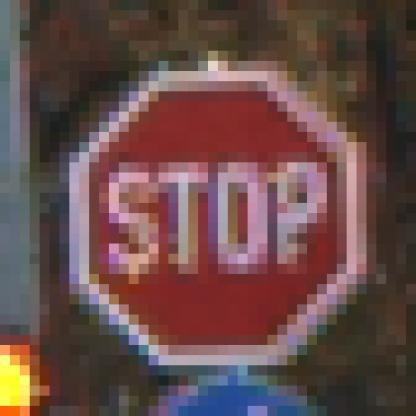Stop: (72, 78, 363, 368)
